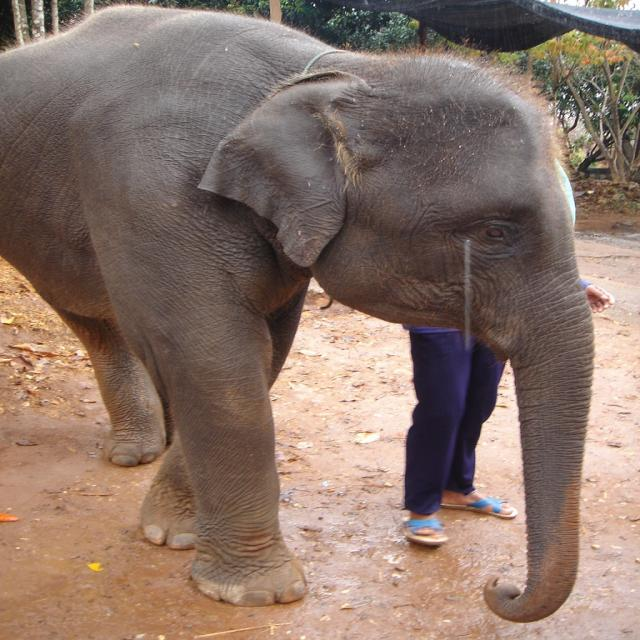Elephant: (0, 0, 590, 612)
